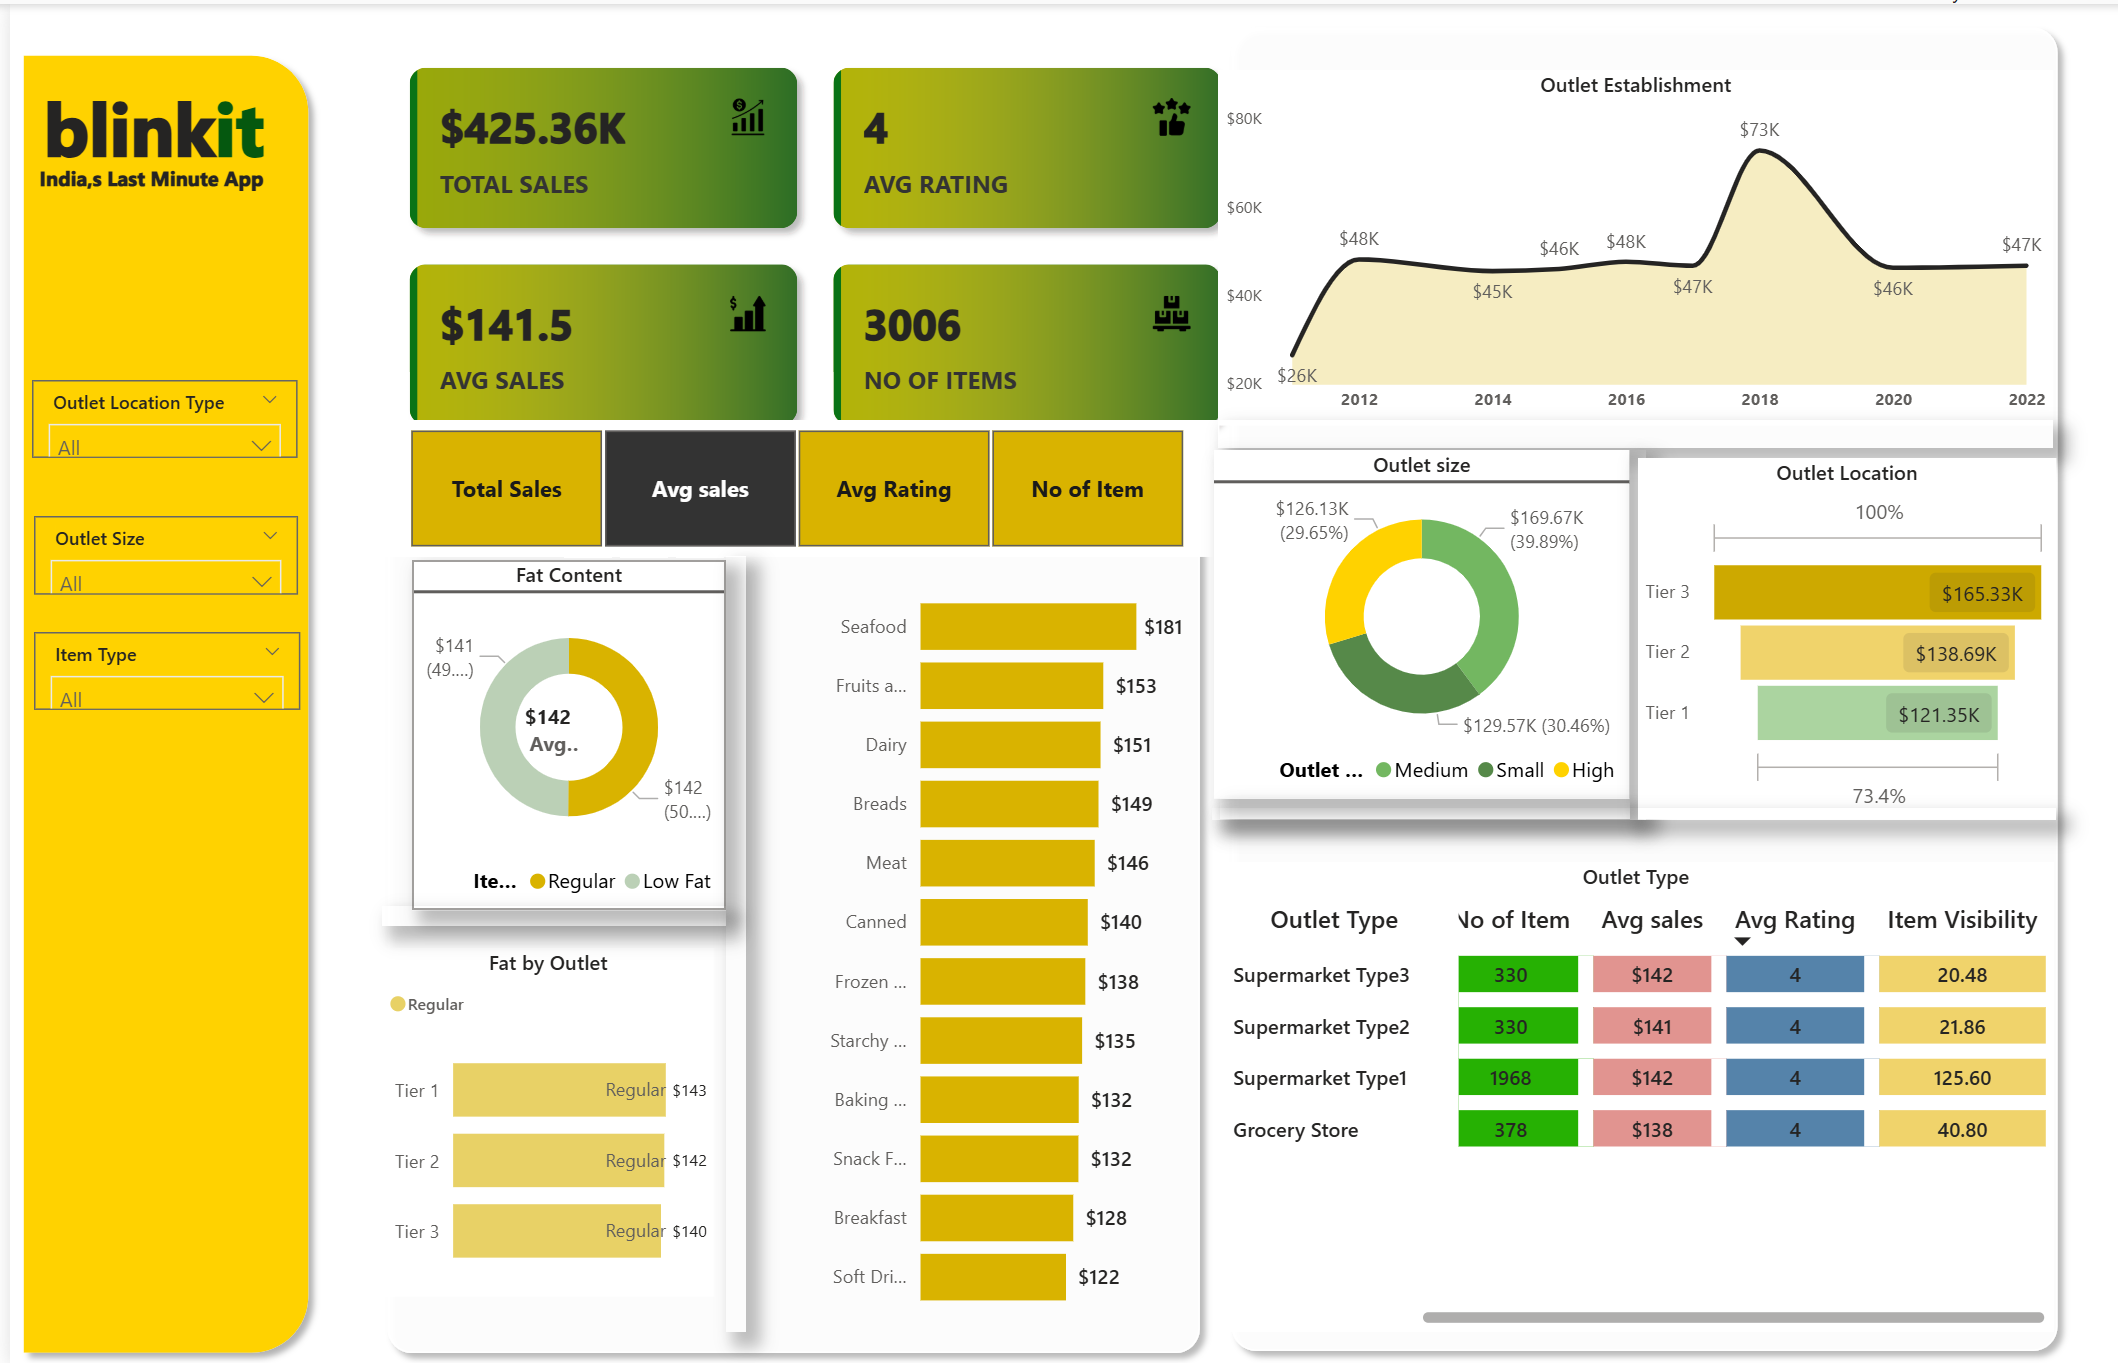

Layout of this report page (visuals, bound fields, positions):
{"tool":"powerbi","page":{"name":"Page 1","canvas":[1400,900],"ordinal":0},"visuals":[{"type":"shape","box":[0,24.5,206.2,875.2],"z":0},{"type":"textbox","box":[0,43.3,190.3,86.5],"z":1000},{"type":"textbox","box":[14.4,100.9,190.3,28.8],"z":2000},{"type":"cardVisual","fields":{"Data":["BlinkIT Grocery Data.Total Sales","BlinkIT Grocery Data.Avg Rating","BlinkIT Grocery Data.Avg sales","BlinkIT Grocery Data.No of Item"]},"box":[246.5,24.5,570,270],"z":3000},{"type":"shape","box":[241,274.7,554.7,625.6],"z":4000},{"type":"donutChart","title":"Fat Content","fields":{"Y":["BlinkIT Grocery Data.Avg sales"],"Category":["BlinkIT Grocery Data.Item Fat Content"]},"box":[265.6,367.4,207.5,231.3],"z":5000},{"type":"slicer","fields":{"Values":["Metrics 2.Metrics"]},"box":[239.2,274.7,560,90.4],"z":6000},{"type":"cardVisual","fields":{"Data":["BlinkIT Grocery Data.Avg sales"]},"box":[319,441.3,74.4,76.2],"z":7000},{"type":"clusteredBarChart","title":"Fat by Outlet","fields":{"Y":["BlinkIT Grocery Data.Avg sales"],"Category":["BlinkIT Grocery Data.Outlet Location Type"],"Series":["BlinkIT Grocery Data.Item Fat Content"]},"box":[246.3,623.8,219.7,230.4],"z":8000},{"type":"shape","box":[245.8,596,227.3,13.2],"z":9000},{"type":"shape","box":[473.1,364.8,13.2,512.8],"z":10000},{"type":"barChart","title":"Item Type","fields":{"Y":["BlinkIT Grocery Data.Avg sales"],"Category":["BlinkIT Grocery Data.Item Type"]},"box":[524.6,366.8,255.2,510.4],"z":11000},{"type":"shape","box":[798.8,7.2,563.7,892.5],"z":12000},{"type":"lineChart","title":"Outlet Establishment","fields":{"Category":["BlinkIT Grocery Data.Outlet Establishment Year"],"Y":["BlinkIT Grocery Data.Total Sales"]},"box":[798.8,43.3,552.2,235],"z":13000},{"type":"shape","box":[798.8,275.4,552.2,18.7],"z":14000},{"type":"donutChart","title":"Outlet size","fields":{"Y":["BlinkIT Grocery Data.Total Sales"],"Category":["BlinkIT Grocery Data.Outlet Size"]},"box":[795.7,294.2,274.7,230.4],"z":15000},{"type":"shape","box":[799.2,524.6,271.1,14.2],"z":16000},{"type":"shape","box":[1070.4,294.2,10.6,244.6],"z":17000},{"type":"funnel","title":"Outlet Location","fields":{"Category":["BlinkIT Grocery Data.Outlet Location Type"],"Y":["BlinkIT Grocery Data.Total Sales"]},"box":[1075.7,299.5,276.5,239.2],"z":18000},{"type":"shape","box":[794.3,531.3,557.7,7.9],"z":19000},{"type":"pivotTable","title":"Outlet Type","fields":{"Rows":["BlinkIT Grocery Data.Outlet Type"],"Values":["BlinkIT Grocery Data.Total Sales","BlinkIT Grocery Data.No of Item","BlinkIT Grocery Data.Avg sales","BlinkIT Grocery Data.Avg Rating","Sum(BlinkIT Grocery Data.Item Visibility)"]},"box":[798.2,567,552.4,310.6],"z":20000},{"type":"slicer","fields":{"Values":["BlinkIT Grocery Data.Outlet Location Type"]},"box":[14.2,248.1,175.4,51.4],"z":21000},{"type":"slicer","fields":{"Values":["BlinkIT Grocery Data.Outlet Size"]},"box":[15.9,338.8,174.5,51.9],"z":22000},{"type":"slicer","fields":{"Values":["BlinkIT Grocery Data.Item Type"]},"box":[15.9,415,175.8,51.5],"z":23000}]}

Visuals, with their boxes in screenshot pixels (x1, y1, x2, y2), scaled from the page's 1400x900 canvas onto the 2118x1363 screenshot:
shape: Rect(0, 37, 312, 1362)
textbox: Rect(0, 66, 288, 197)
textbox: Rect(22, 153, 310, 196)
cardVisual - BlinkIT Grocery Data.Total Sales x BlinkIT Grocery Data.Avg Rating: Rect(373, 37, 1235, 446)
shape: Rect(365, 416, 1204, 1362)
"Fat Content" donutChart: Rect(402, 556, 716, 907)
slicer - Metrics 2.Metrics: Rect(362, 416, 1209, 553)
cardVisual - BlinkIT Grocery Data.Avg sales: Rect(483, 668, 595, 784)
"Fat by Outlet" clusteredBarChart: Rect(373, 945, 705, 1294)
shape: Rect(372, 903, 716, 923)
shape: Rect(716, 552, 736, 1329)
"Item Type" barChart: Rect(794, 555, 1180, 1328)
shape: Rect(1208, 11, 2061, 1362)
"Outlet Establishment" lineChart: Rect(1208, 66, 2044, 421)
shape: Rect(1208, 417, 2044, 445)
"Outlet size" donutChart: Rect(1204, 446, 1619, 794)
shape: Rect(1209, 794, 1619, 816)
shape: Rect(1619, 446, 1635, 816)
"Outlet Location" funnel: Rect(1627, 454, 2046, 816)
shape: Rect(1202, 805, 2045, 817)
"Outlet Type" pivotTable: Rect(1208, 859, 2043, 1329)
slicer - BlinkIT Grocery Data.Outlet Location Type: Rect(21, 376, 287, 454)
slicer - BlinkIT Grocery Data.Outlet Size: Rect(24, 513, 288, 592)
slicer - BlinkIT Grocery Data.Item Type: Rect(24, 628, 290, 706)
